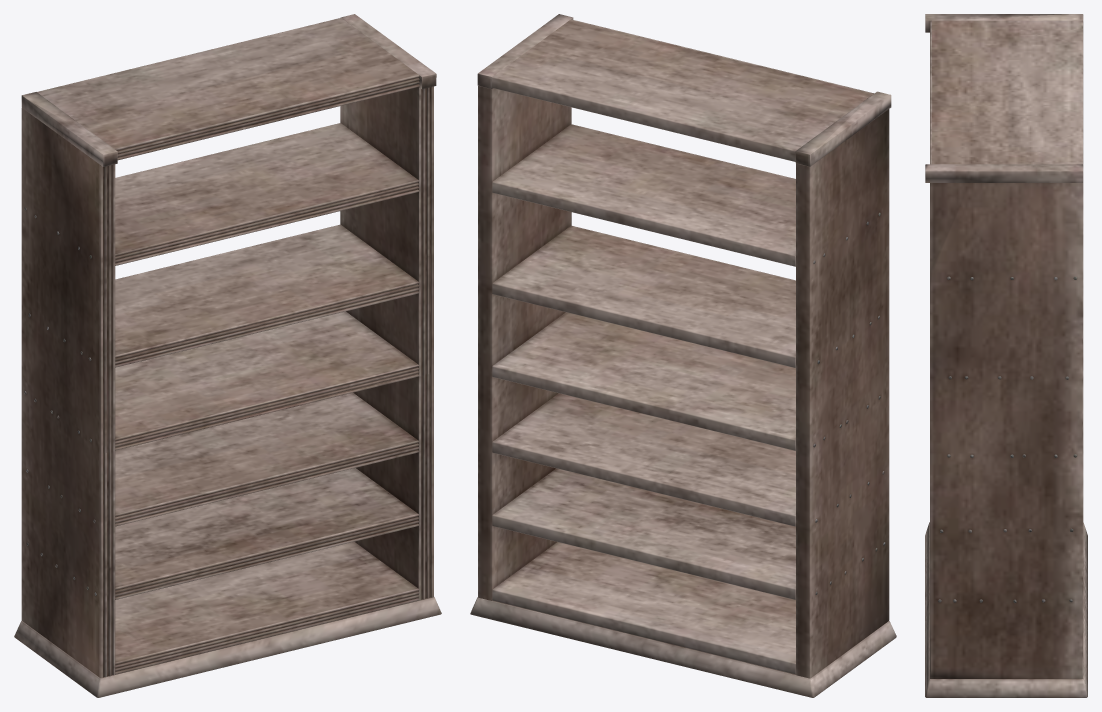
Rendered from bookshelf.glb.
3 renders of one model, left to right at view 1: azimuth 30°, elevation 25°; view 2: azimuth 150°, elevation 25°; view 3: azimuth 270°, elevation 25°, orthographic. The views are drawn at different scales.
Parts seen in each view (by area): view 1: wooden_bookshelf_worn; view 2: wooden_bookshelf_worn; view 3: wooden_bookshelf_worn.
Part boxes in pixels (left/top/right/bottom): wooden_bookshelf_worn: left=14, top=14, right=441, bottom=697; wooden_bookshelf_worn: left=470, top=14, right=896, bottom=697; wooden_bookshelf_worn: left=925, top=14, right=1087, bottom=697.
Bounding box in the file's own units: 1.37 × 2.06 × 0.5813.
1 material, 1 textured.
